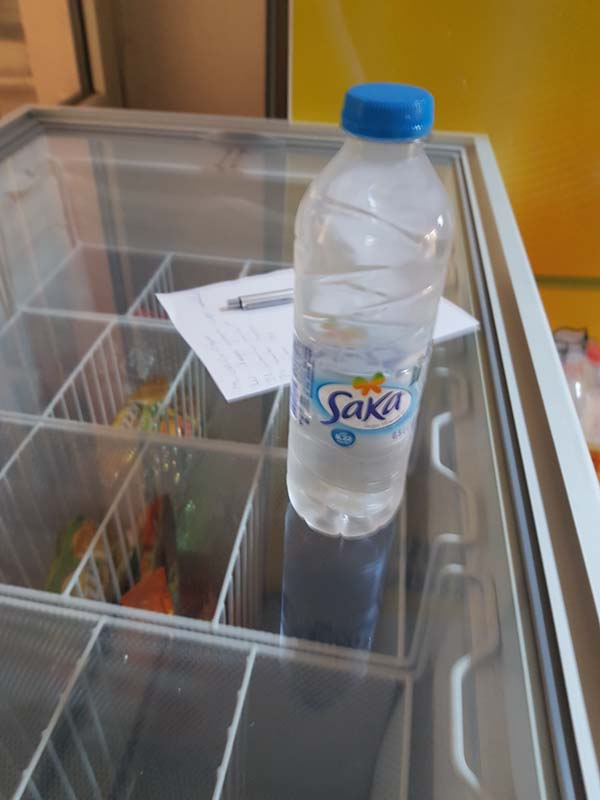saka500mlsu: (288, 74, 459, 530)
